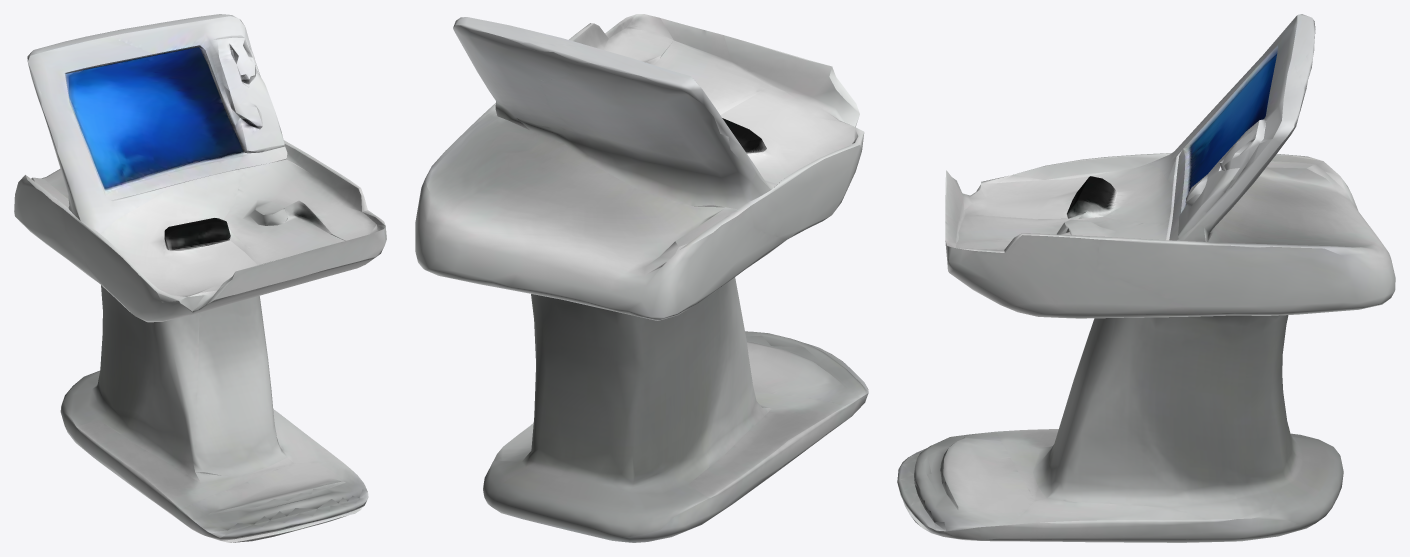
File: m2LabPlatform.glb
The picture shows the model from 3 angles, left to right: view 1: azimuth 30°, elevation 25°; view 2: azimuth 150°, elevation 25°; view 3: azimuth 270°, elevation 25°; orthographic projection. The views are drawn at different scales.
Visible parts, largest first — view 1: model; view 2: model; view 3: model.
Part boxes in pixels (left/top/right/bottom): model: left=14, top=14, right=386, bottom=542; model: left=415, top=14, right=868, bottom=542; model: left=897, top=14, right=1395, bottom=542.
Size of the model in its own units: 1.07 by 1.84 by 1.9.
Materials: 1 (1 with a texture image).
